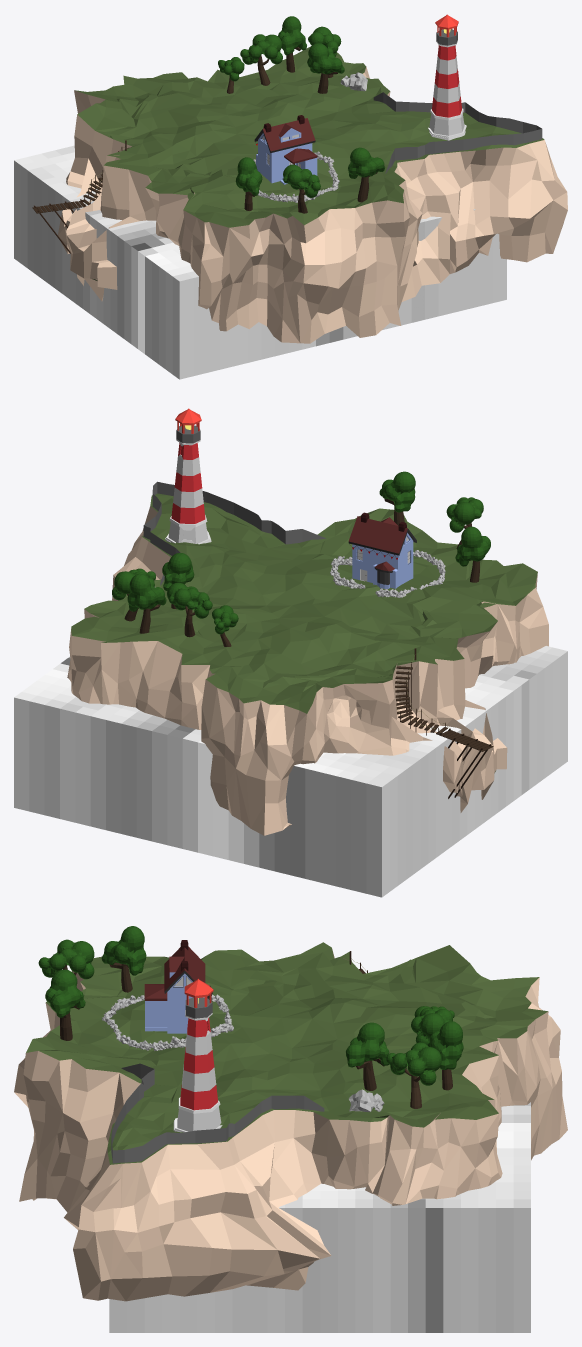
File: GeorgeG_Low_Poly_Diaorama_056.glb
3 views of the same model, one above another, from view 1: azimuth 30°, elevation 25°; view 2: azimuth 150°, elevation 25°; view 3: azimuth 270°, elevation 25° (orthographic). The views are drawn at different scales.
Parts seen in each view (by area): view 1: land, water, railing_land, lighthouse_base, main_building, Sphere.009, Sphere, Sphere.004, Sphere.006, Sphere.001, Sphere.005, Cube.086 (+2 smaller); view 2: land, water, main_building, lighthouse_base, railing_land, Cube.086, Sphere.009, Sphere.004, Sphere.001, Sphere.005, Sphere.006, Sphere (+1 smaller); view 3: land, water, lighthouse_base, railing_land, main_building, Cube.086, Sphere.006, Sphere.002, Sphere.005, Sphere, Sphere.004, Sphere.001 (+3 smaller).
Part boxes in pixels (x1,y1,x2,y2): land: (58, 46, 567, 343); water: (14, 145, 506, 379); railing_land: (373, 92, 542, 173); lighthouse_base: (428, 40, 466, 140); main_building: (254, 118, 315, 184); Sphere.009: (240, 34, 282, 64); Sphere: (307, 43, 344, 74); Sphere.004: (348, 147, 384, 178); Sphere.006: (283, 164, 320, 197); Sphere.001: (278, 16, 306, 55); Sphere.005: (235, 157, 262, 195); Cube.086: (253, 151, 339, 202); land: (67, 493, 548, 835); water: (14, 646, 567, 897); main_building: (348, 516, 416, 588); lighthouse_base: (165, 439, 211, 544); railing_land: (143, 481, 325, 585); Cube.086: (330, 550, 445, 597); Sphere.009: (167, 582, 212, 618); Sphere.004: (379, 471, 415, 512); Sphere.001: (127, 573, 166, 611); Sphere.005: (455, 526, 490, 566); Sphere.006: (446, 497, 483, 532); Sphere: (162, 553, 194, 590); land: (14, 942, 567, 1301); water: (109, 1102, 530, 1332); lighthouse_base: (173, 1010, 222, 1132); railing_land: (111, 1063, 324, 1163); main_building: (145, 946, 212, 1033); Cube.086: (102, 994, 233, 1050); Sphere.006: (38, 939, 94, 979); Sphere.002: (386, 1042, 441, 1085); Sphere.005: (101, 926, 146, 975); Sphere: (346, 1022, 389, 1067); Sphere.004: (45, 969, 85, 1017); Sphere.001: (428, 1021, 463, 1069).
Bounding box in the file's own units: 51.56 × 31.29 × 46.3.
